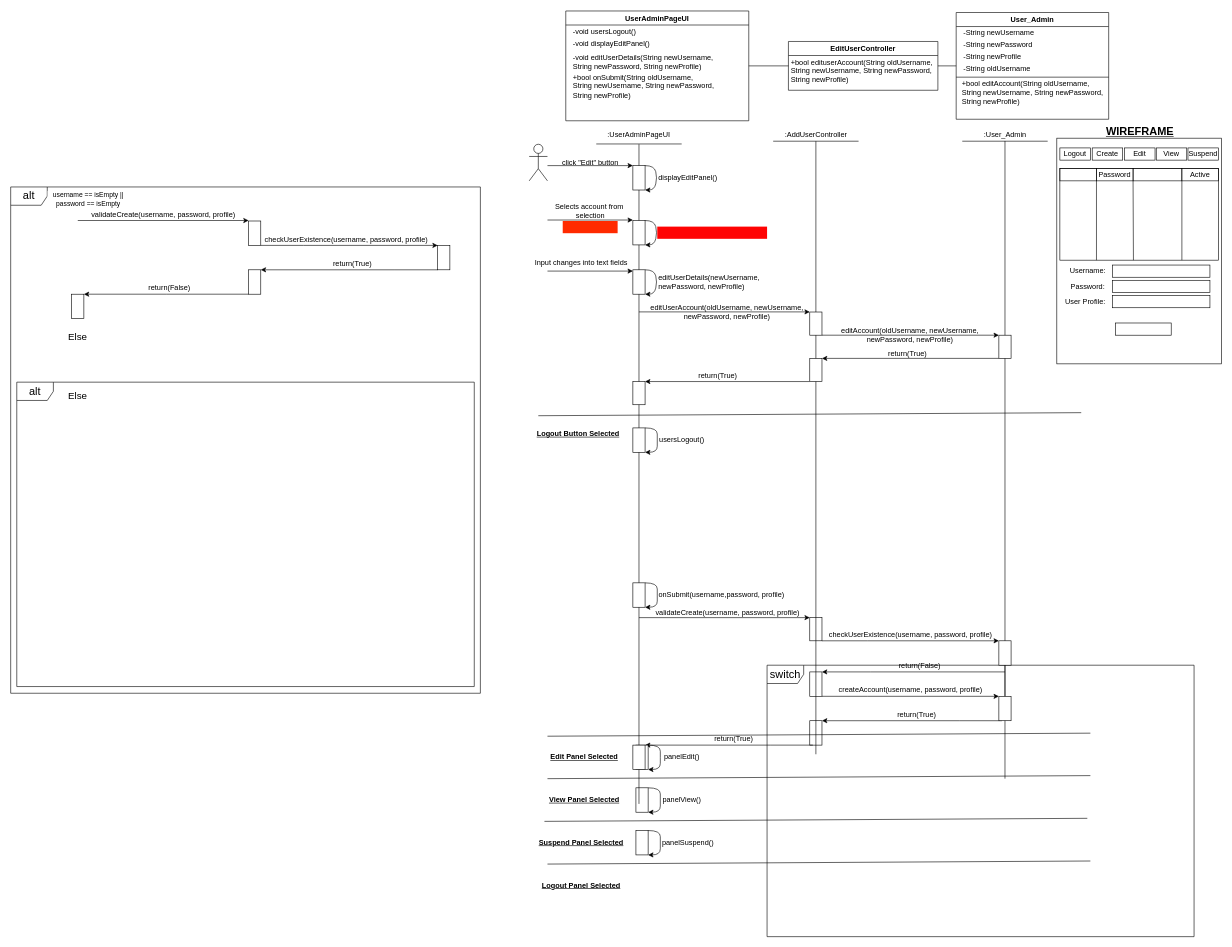
The diagram is 1232 pixels wide and 947 high, and some of its shapes have lost their labels. Here are the shapes that lost their labels. From the top down, the centre of each, then its label:
At point 538,162: "User Admin".
At point 1077,174: "Username".
At point 1157,174: "User Profile".
At point 589,227: "(actionlistener)".
At point 712,232: "Text displayed with mouse click".
At point 1143,328: "Edit Changes".
